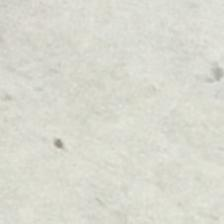Non_Crack: (27, 36, 215, 166)
